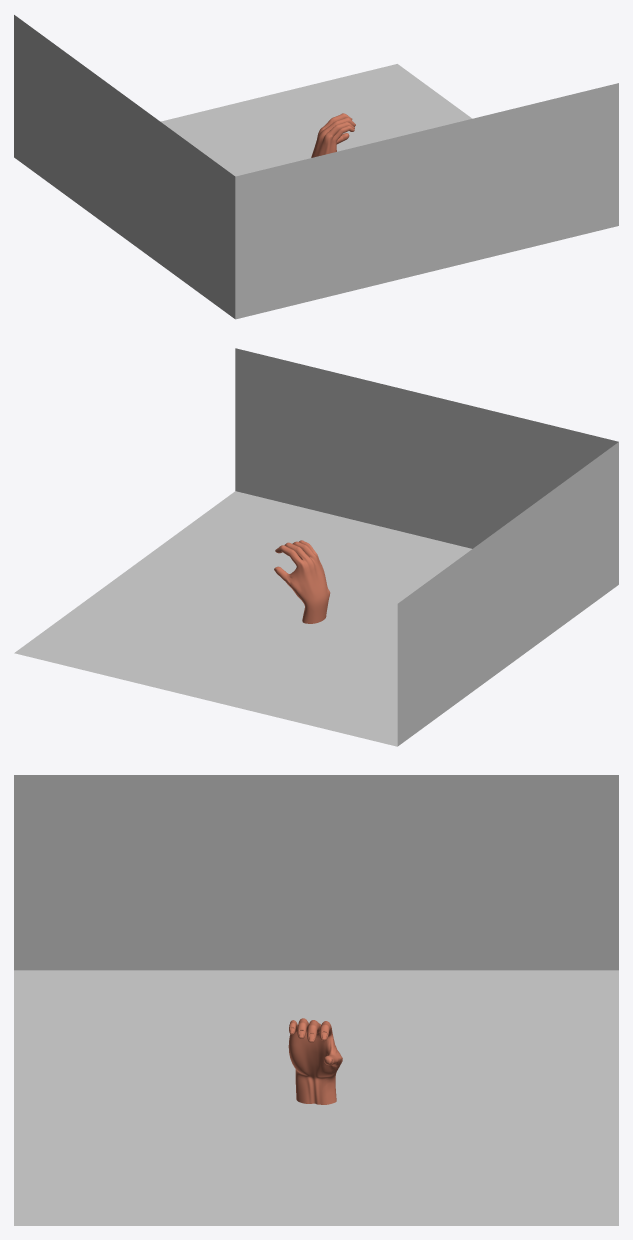
The picture shows the model from 3 angles, top to bottom: view 1: azimuth 30°, elevation 25°; view 2: azimuth 150°, elevation 25°; view 3: azimuth 270°, elevation 25°; orthographic projection. The views are drawn at different scales.
Parts seen in each view (by area): view 1: Plane_Plane.006, Plane.004; view 2: Plane_Plane.006, Plane.004; view 3: Plane_Plane.006, Plane.004.
Boxes of the visible parts, left/top/right/bottom form: Plane_Plane.006: left=14, top=15, right=618, bottom=319; Plane.004: left=311, top=113, right=355, bottom=157; Plane_Plane.006: left=14, top=348, right=618, bottom=746; Plane.004: left=274, top=540, right=330, bottom=623; Plane_Plane.006: left=14, top=775, right=618, bottom=1225; Plane.004: left=288, top=1018, right=342, bottom=1104.
Size of the model in its own units: 18.5 by 7.51 by 18.5.
